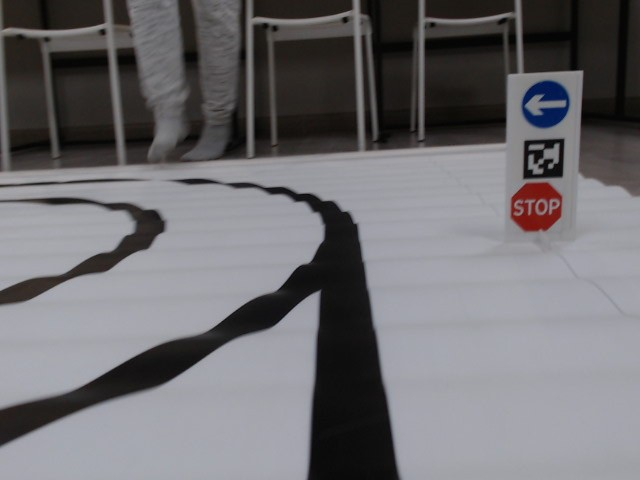Stop: (509, 182, 564, 231)
